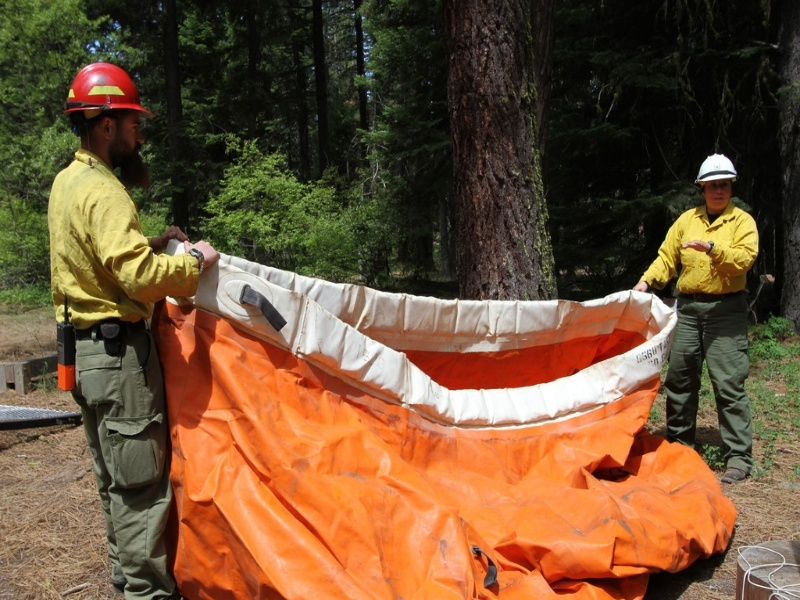Baret: (65, 63, 149, 112), (698, 148, 738, 185)
